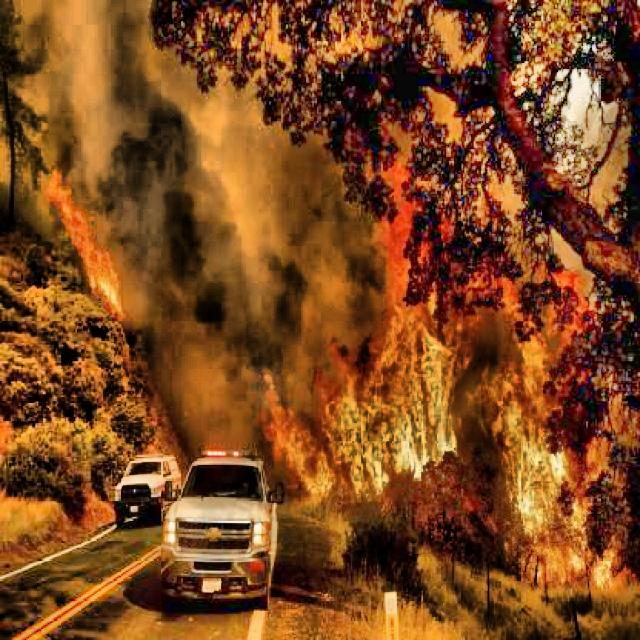Fire: (263, 153, 633, 592), (48, 174, 124, 316)
